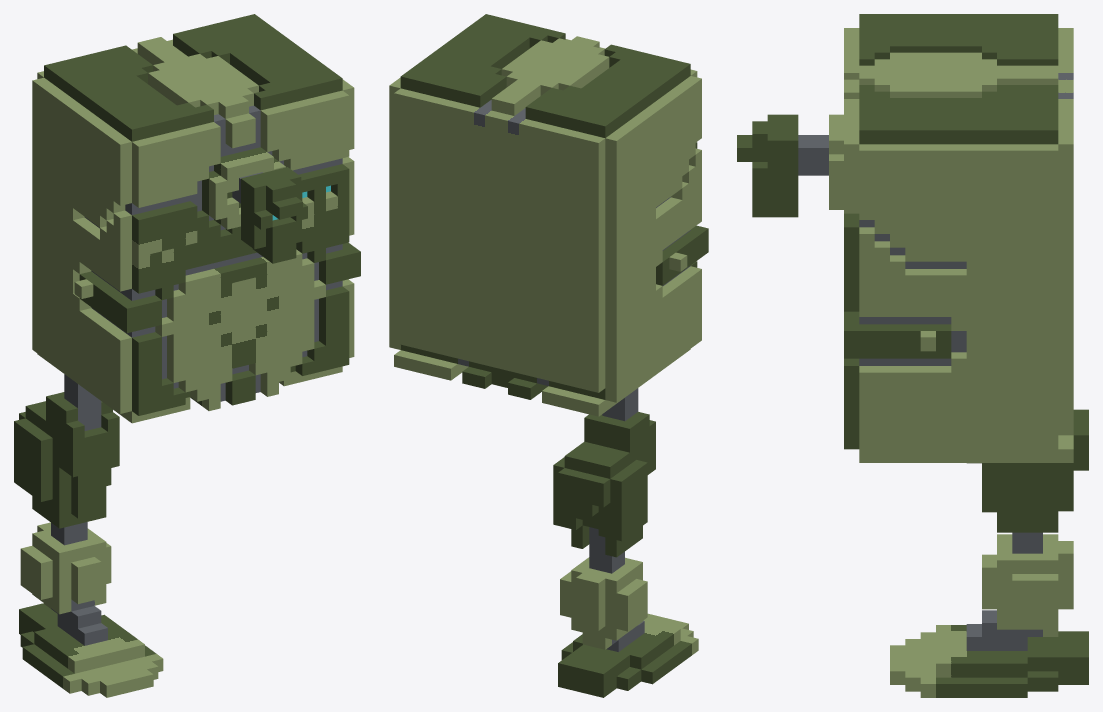
Rendered from roboto12.gltf.
The picture shows the model from 3 angles, left to right: view 1: azimuth 30°, elevation 25°; view 2: azimuth 150°, elevation 25°; view 3: azimuth 270°, elevation 25°; orthographic projection. The views are drawn at different scales.
Parts seen in each view (by area): view 1: robot-Mesh; view 2: robot-Mesh; view 3: robot-Mesh.
Boxes of the visible parts, bbox=[...] form: robot-Mesh: bbox=[14, 14, 360, 697]; robot-Mesh: bbox=[389, 14, 708, 697]; robot-Mesh: bbox=[737, 14, 1088, 697].
Bounding box in the file's own units: 23 × 47 × 23.
1 material, 1 textured.
